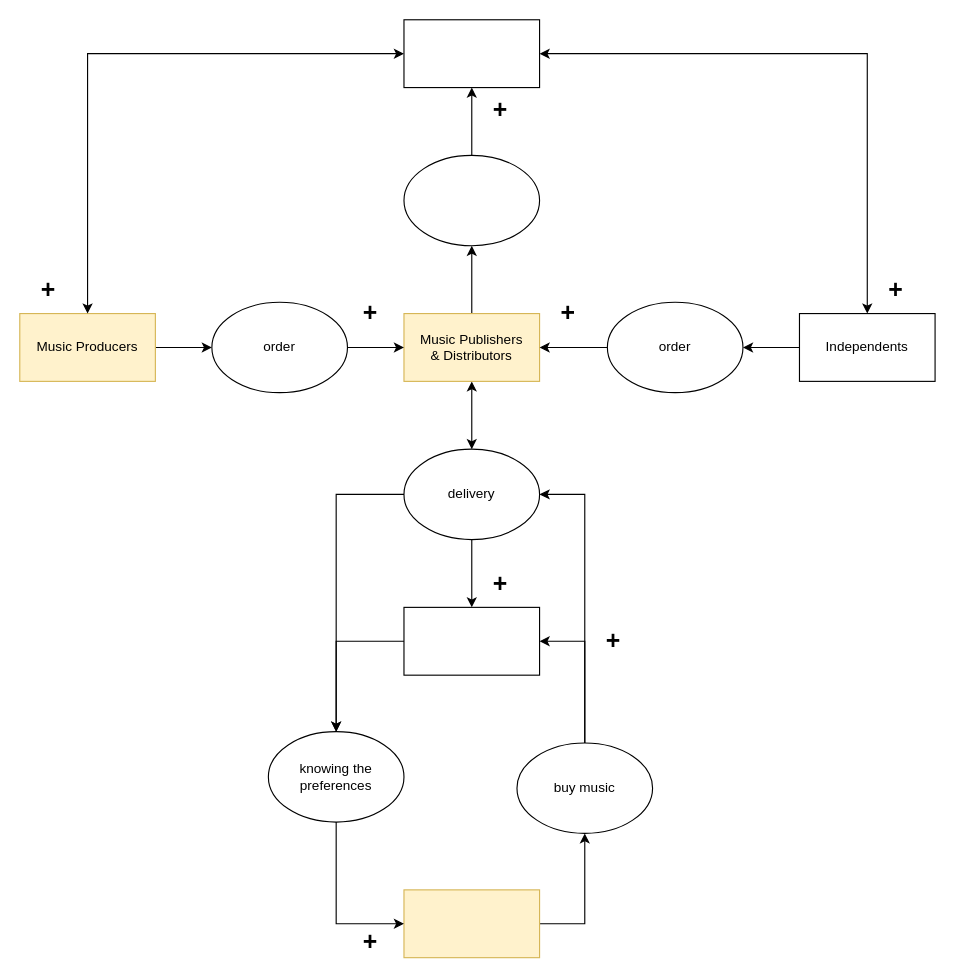
Image size: 955x977. Some labels were removed from this diagram. Each missing label, with the centre of its shape:
"Customers" belongs at (x=471, y=923).
"Dealers" belongs at (x=471, y=640).
"more efficiency" belongs at (x=471, y=200).
"reduced costs" belongs at (x=471, y=53).
